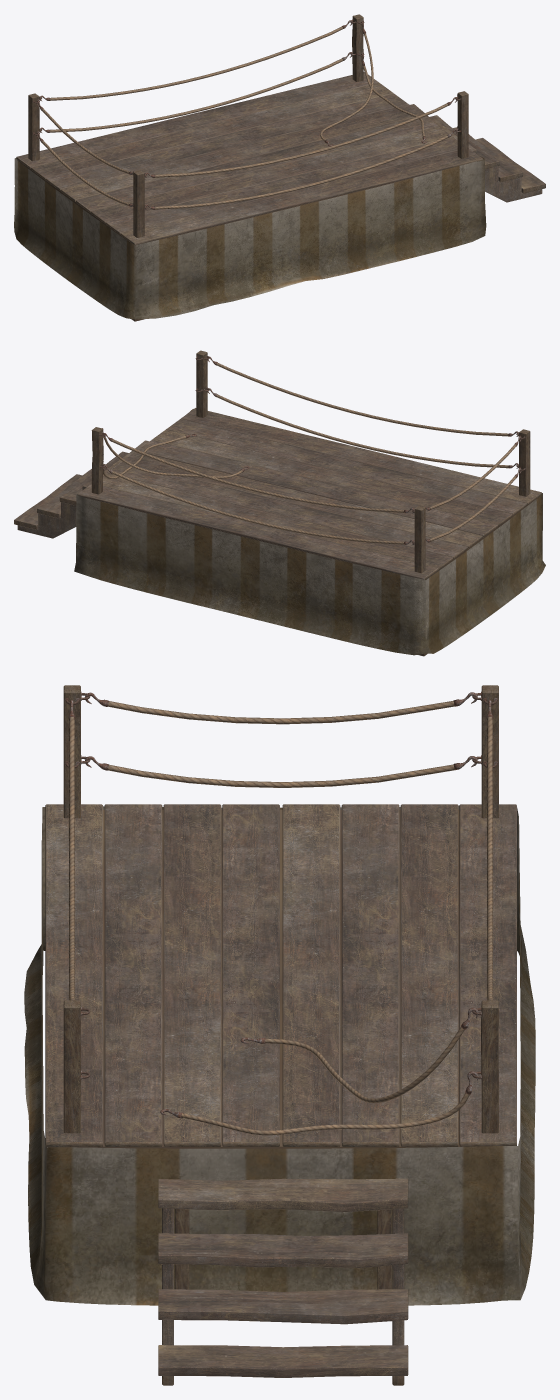
File: SM_Stage_A.fbx
3 renders of one model, top to bottom at view 1: azimuth 30°, elevation 25°; view 2: azimuth 150°, elevation 25°; view 3: azimuth 270°, elevation 25°, orthographic. The views are drawn at different scales.
Visible parts, largest first — view 1: SM_Stage_A_LOD0; view 2: SM_Stage_A_LOD0; view 3: SM_Stage_A_LOD0.
Boxes of the visible parts, box(x1,y1,x2,y2) form: SM_Stage_A_LOD0: box(14, 14, 545, 321); SM_Stage_A_LOD0: box(14, 350, 545, 656); SM_Stage_A_LOD0: box(24, 685, 535, 1385).
Bounding box in the file's own units: 689 × 342 × 210.
Materials: 2 (2 with a texture image).
